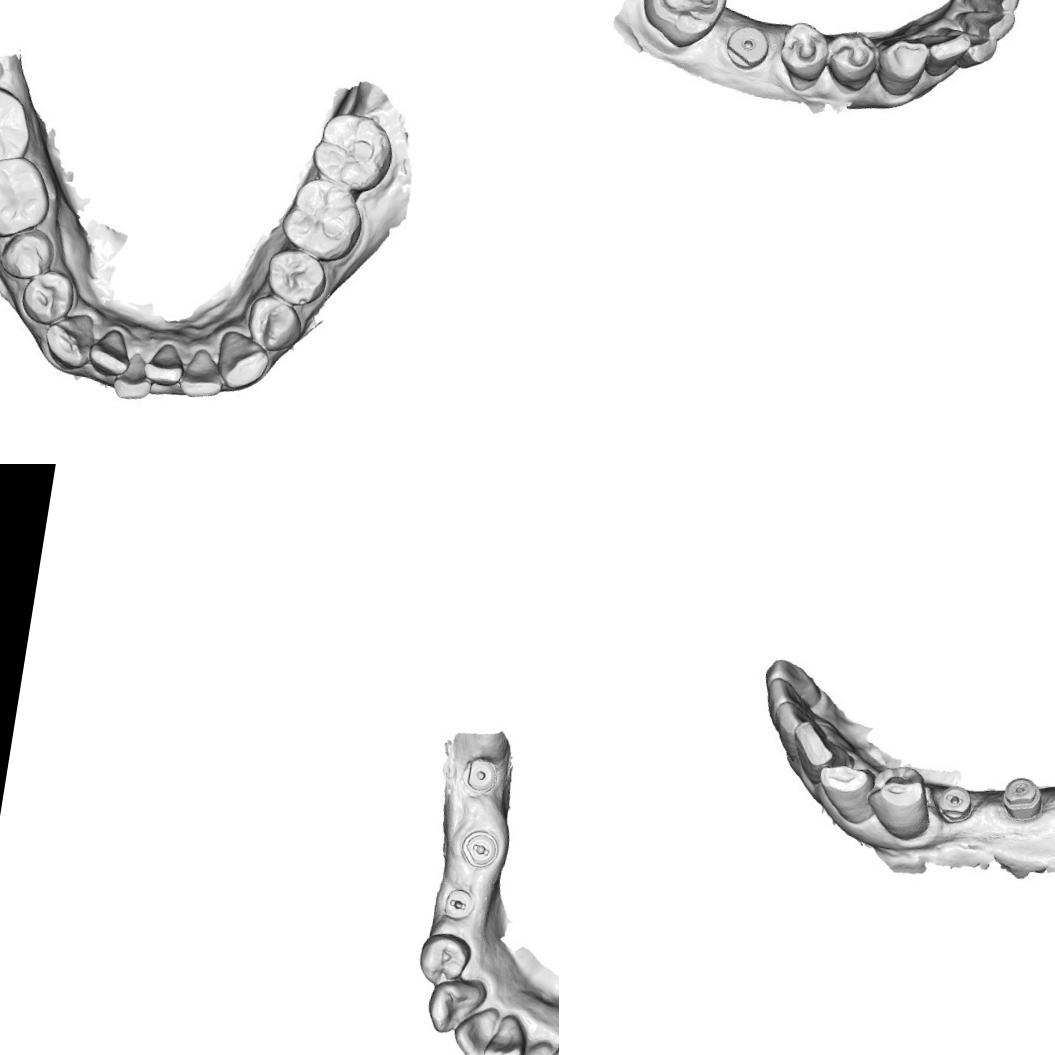canine: (422, 971, 490, 1040), (810, 759, 878, 828), (874, 33, 930, 101), (40, 310, 100, 372), (217, 332, 271, 395)
implant: (720, 20, 773, 75), (458, 751, 504, 795)
implant_minus: (457, 825, 503, 873), (1000, 773, 1044, 822), (438, 882, 480, 925), (938, 786, 974, 827)
incisor: (790, 716, 860, 787), (760, 651, 833, 709), (758, 676, 826, 722), (448, 1001, 505, 1055), (922, 24, 971, 84), (176, 347, 227, 403), (766, 699, 808, 766), (86, 326, 136, 380), (108, 350, 156, 404), (140, 337, 187, 391), (956, 4, 1018, 41), (481, 1011, 531, 1055), (961, 28, 1002, 70), (959, 0, 1027, 16), (504, 1040, 552, 1055)
molar: (306, 105, 400, 198), (277, 172, 365, 262), (0, 148, 56, 245), (636, 0, 733, 54), (0, 80, 34, 175)
premolar: (866, 762, 936, 840), (260, 245, 331, 309), (820, 26, 883, 96), (242, 290, 308, 356), (412, 928, 474, 992), (773, 16, 830, 85), (18, 267, 78, 325), (0, 225, 56, 285)
